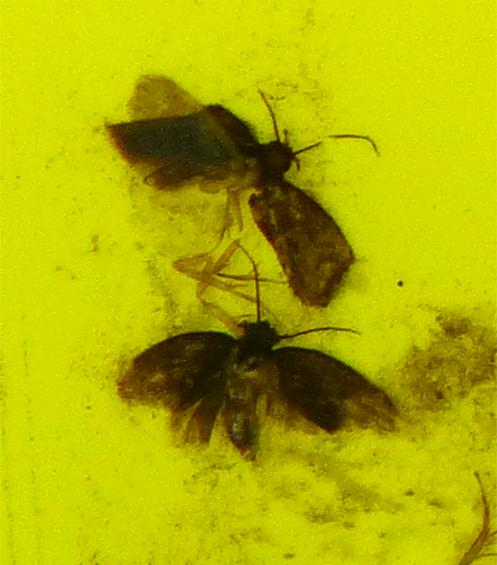Lepidoptera: (100, 100, 355, 307), (113, 316, 397, 465)
